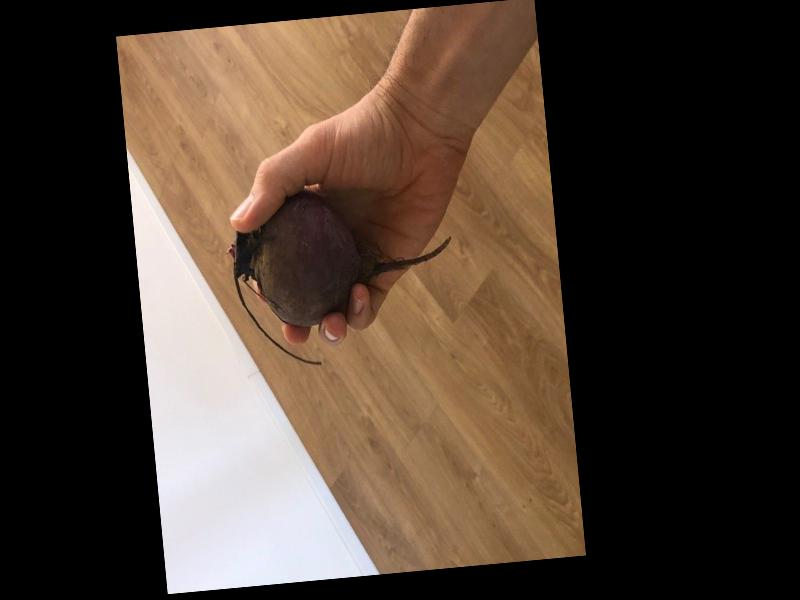Beet: (222, 178, 460, 374)
